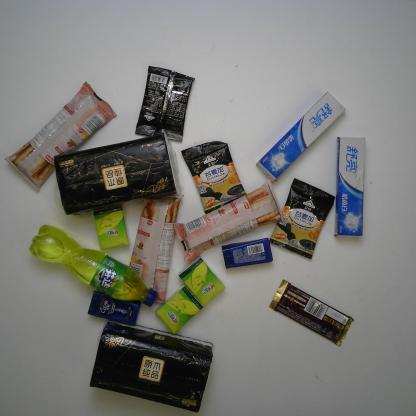Chocolate: (268, 278, 355, 347)
Dessert: (2, 77, 121, 194), (171, 178, 286, 266), (126, 190, 186, 305)
Drink: (26, 223, 160, 308)
Instant Drink: (266, 175, 338, 262), (180, 139, 247, 216), (132, 64, 196, 144)
Personal Hygiene: (254, 88, 349, 185), (333, 134, 368, 240), (85, 288, 143, 327), (221, 235, 274, 272)
Tissue: (88, 317, 215, 414), (52, 130, 183, 217), (176, 254, 226, 309), (154, 283, 204, 336), (91, 203, 133, 253)
